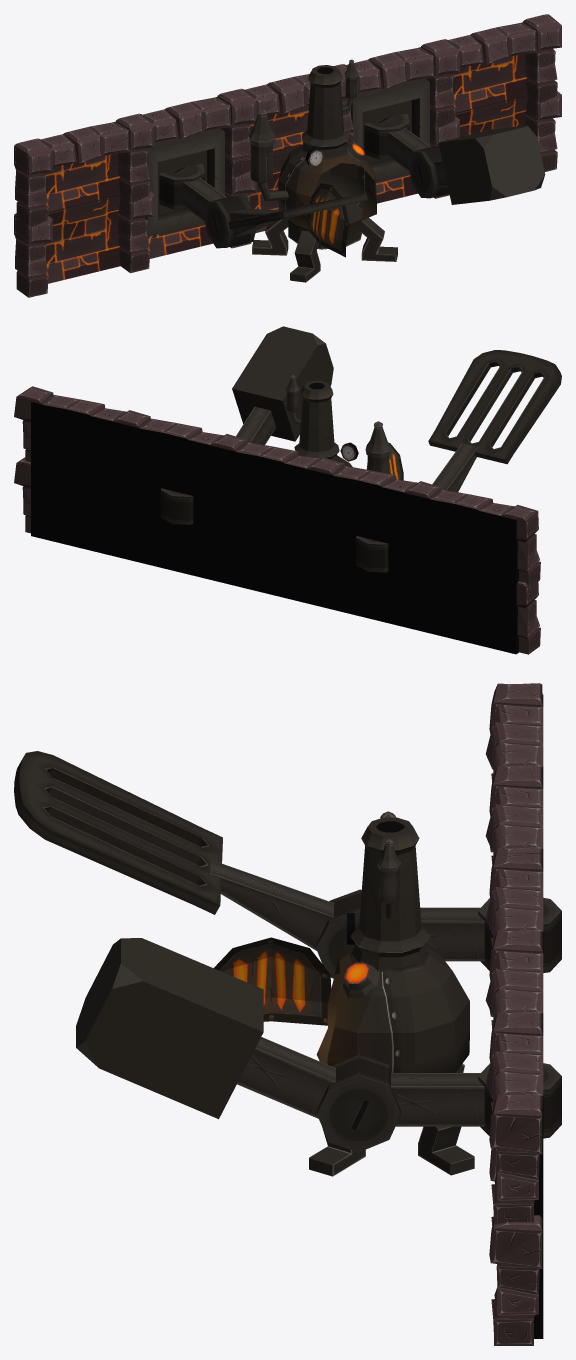
Rendered from bozen oven 1.FBX.
3 renders of one model, top to bottom at view 1: azimuth 30°, elevation 25°; view 2: azimuth 150°, elevation 25°; view 3: azimuth 270°, elevation 25°, orthographic. The views are drawn at different scales.
Visible parts, largest first — view 1: Box129, Cylinder003, Box133, Box134, Box130, Box144, Plane001, Box143, Box132, Object002, Box136; view 2: Box129, Box144, Box133, Cylinder003, Box132, Box143, Box136; view 3: Box129, Box133, Box144, Cylinder003, Object002, Box132, Box143, Plane001.
Part boxes in pixels (x1,y1,x2,y2): Box129: [14, 14, 561, 297]; Cylinder003: [250, 65, 376, 249]; Box133: [408, 125, 545, 204]; Box134: [145, 128, 224, 236]; Box130: [350, 79, 429, 181]; Box144: [204, 193, 367, 248]; Plane001: [252, 217, 397, 282]; Box143: [159, 163, 226, 221]; Box132: [364, 113, 430, 170]; Object002: [307, 183, 349, 257]; Box136: [248, 108, 275, 147]; Box129: [14, 386, 540, 654]; Box144: [428, 350, 561, 492]; Box133: [232, 326, 333, 444]; Cylinder003: [287, 380, 389, 473]; Box132: [160, 488, 193, 524]; Box143: [356, 536, 388, 572]; Box136: [365, 421, 391, 458]; Box129: [485, 683, 543, 1345]; Box133: [76, 938, 400, 1152]; Box144: [14, 751, 361, 978]; Cylinder003: [316, 817, 469, 1072]; Object002: [214, 937, 331, 1025]; Box132: [391, 1063, 561, 1138]; Box143: [420, 897, 561, 972]; Plane001: [309, 1063, 474, 1176].
Size of the model in its own units: 2384 by 809 by 1271.
